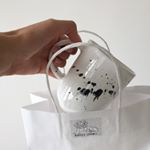cups: (47, 36, 138, 113)
